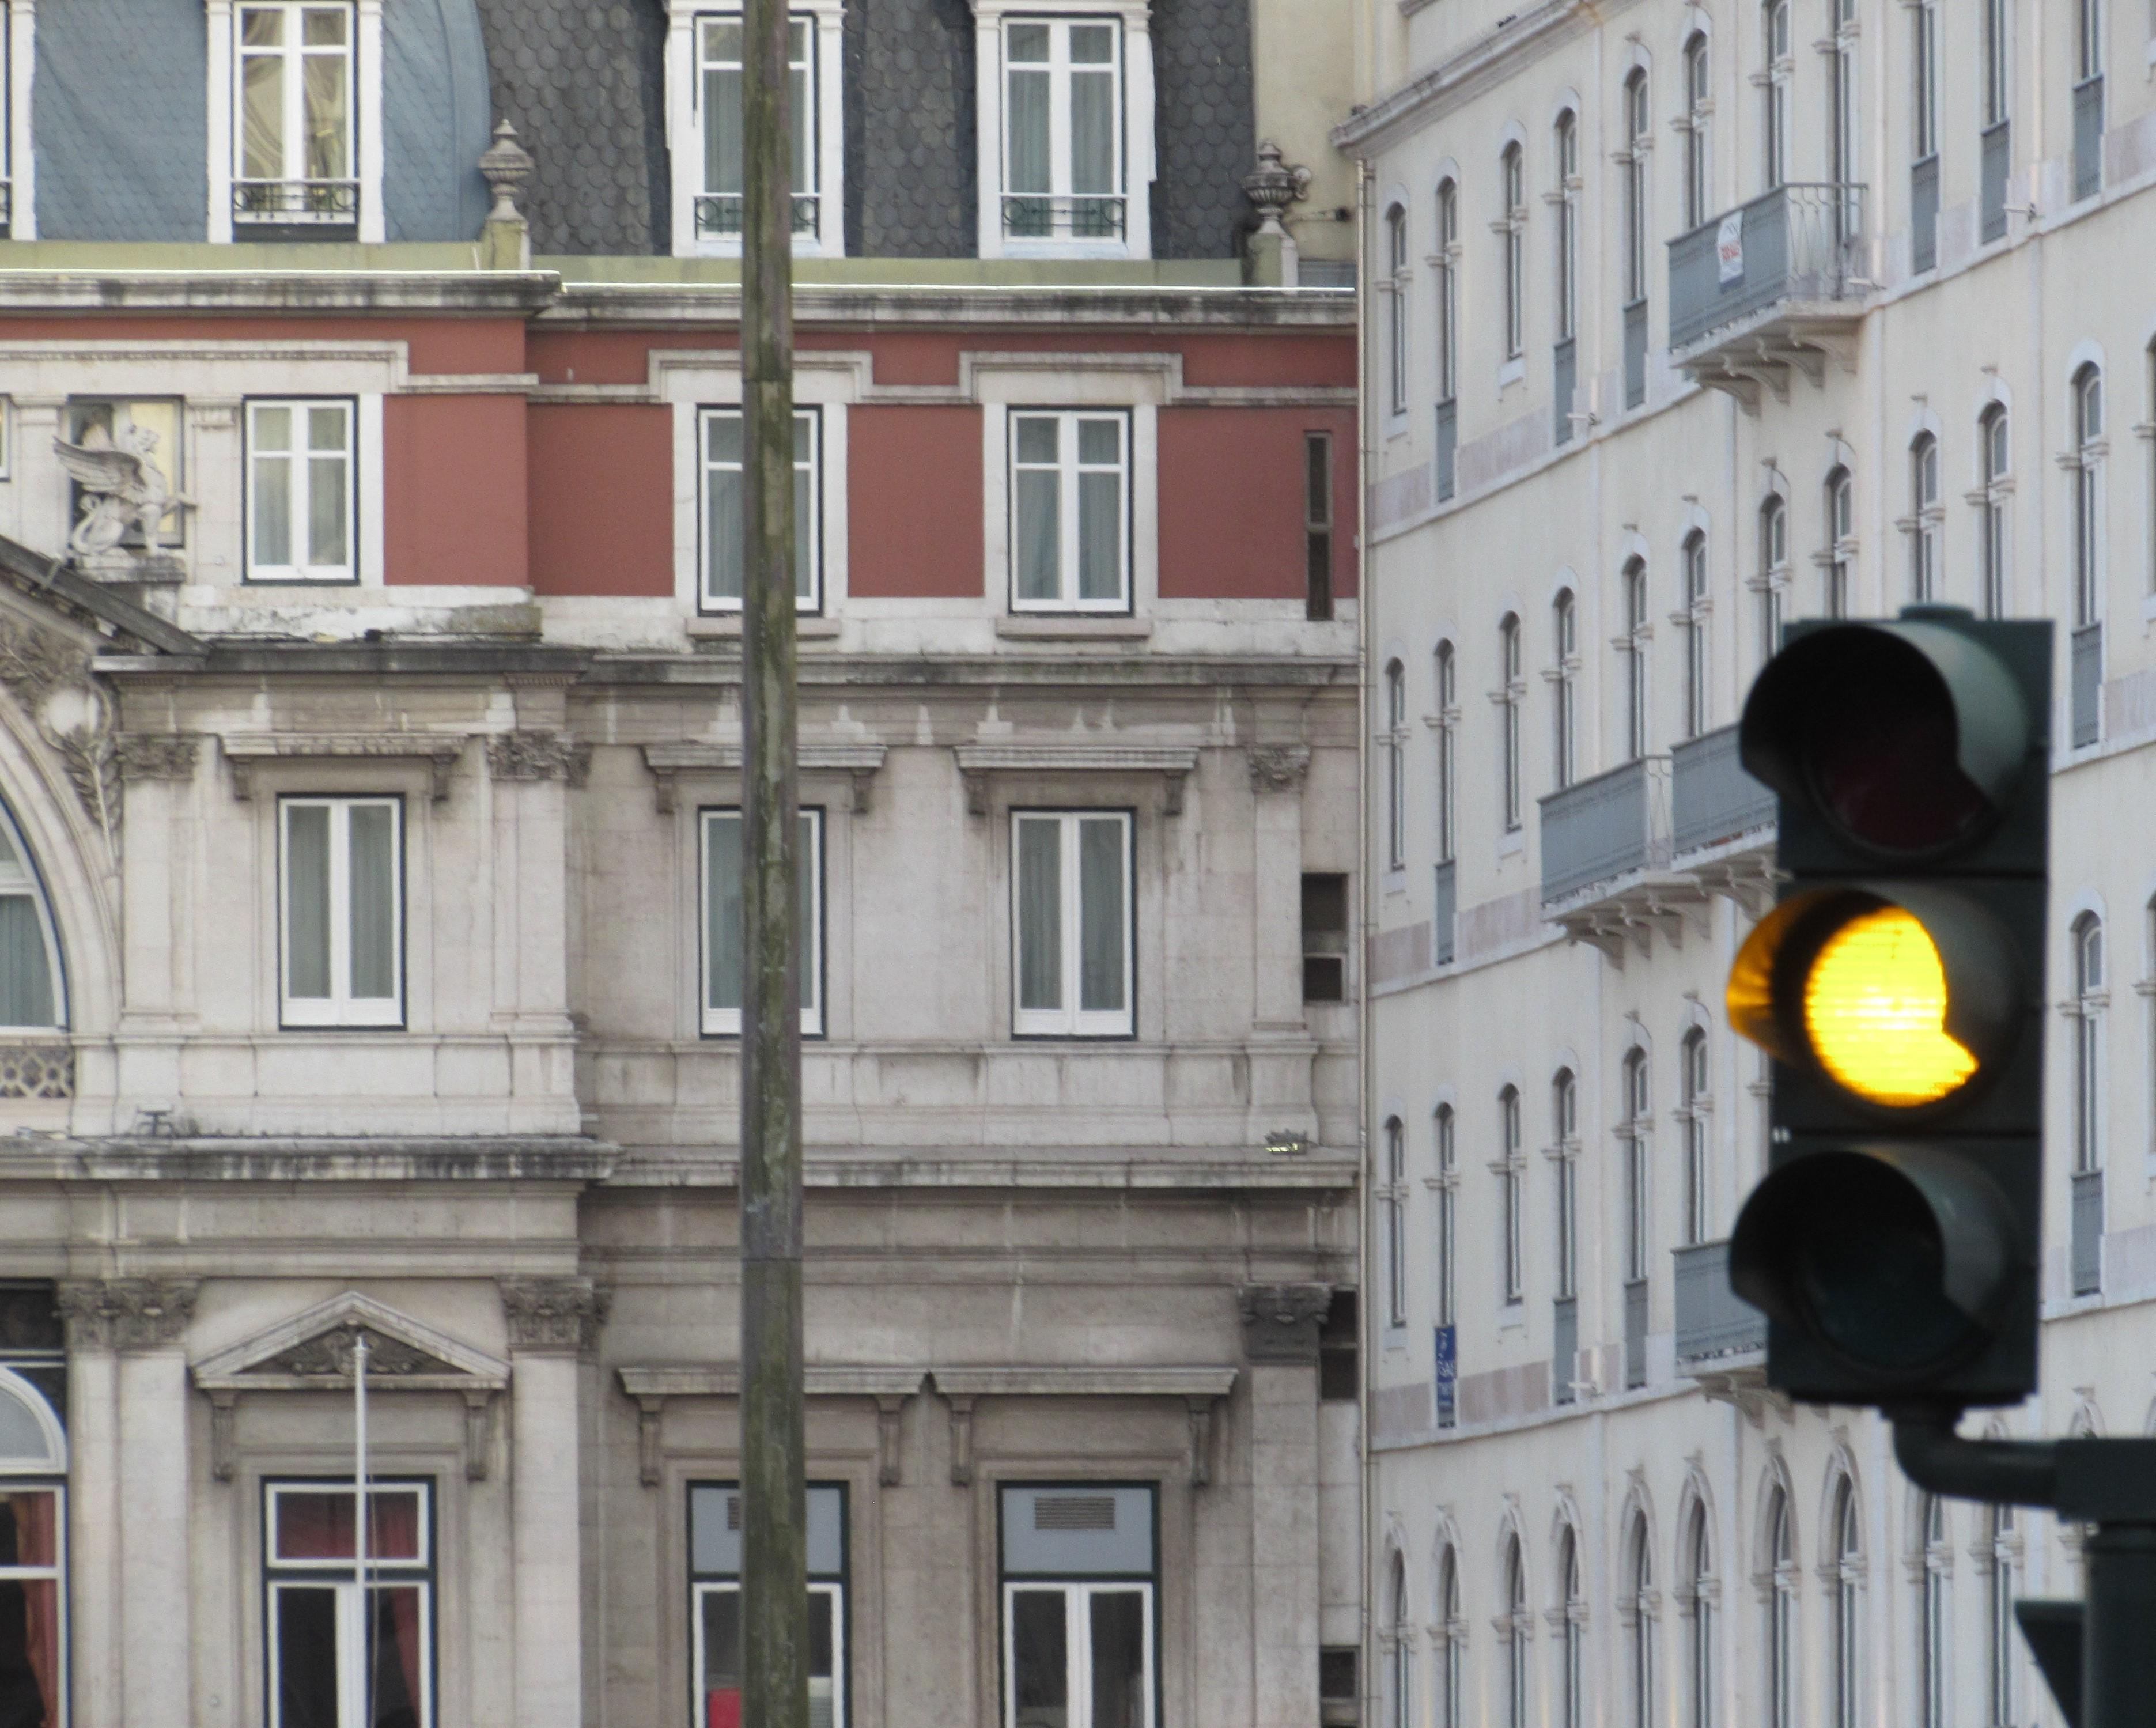yellow_light: (1726, 617, 2057, 1404)
